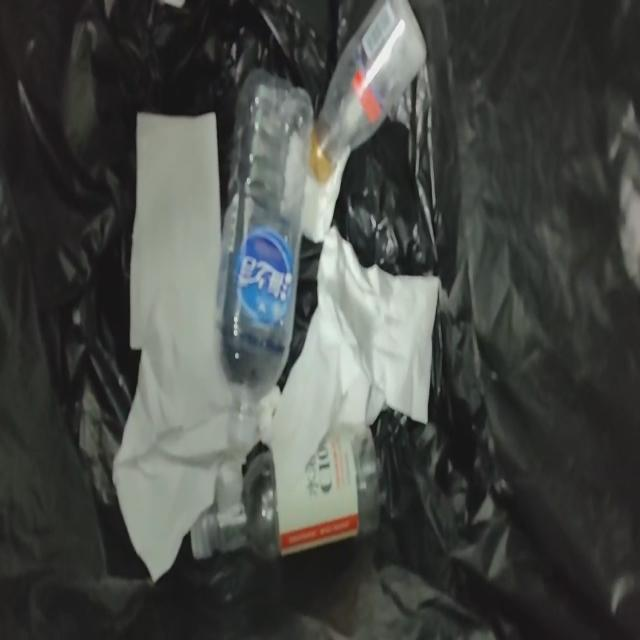bottle: (215, 68, 313, 453), (192, 425, 378, 561), (308, 0, 426, 186)
paper: (214, 224, 438, 514), (114, 114, 235, 580), (281, 124, 350, 243)
